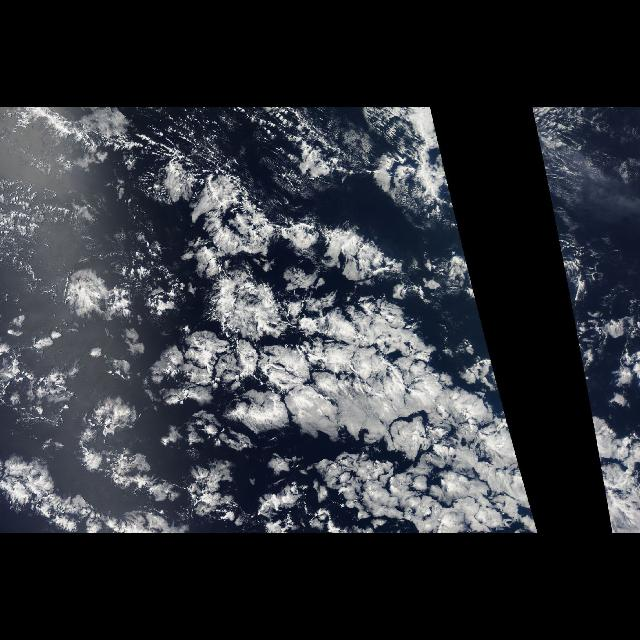Fish: (168, 164, 410, 284)
Flower: (62, 167, 536, 527), (544, 168, 622, 524)
Sugar: (532, 110, 620, 238)
